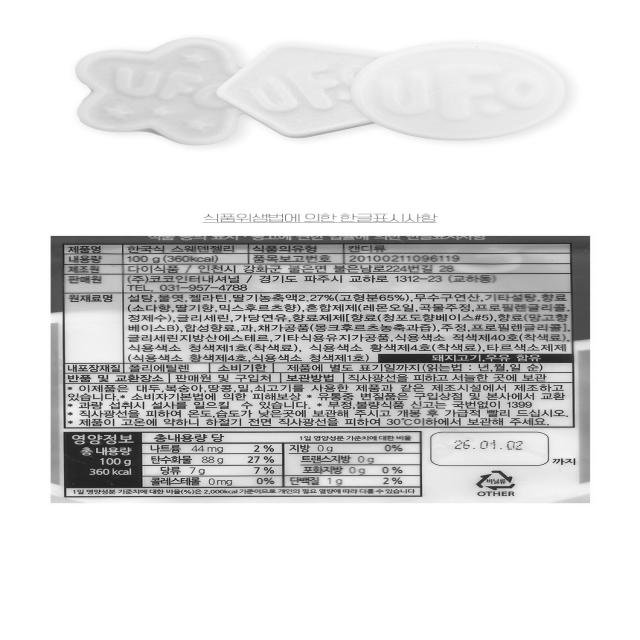Nutrition Label: (56, 426, 439, 504)
